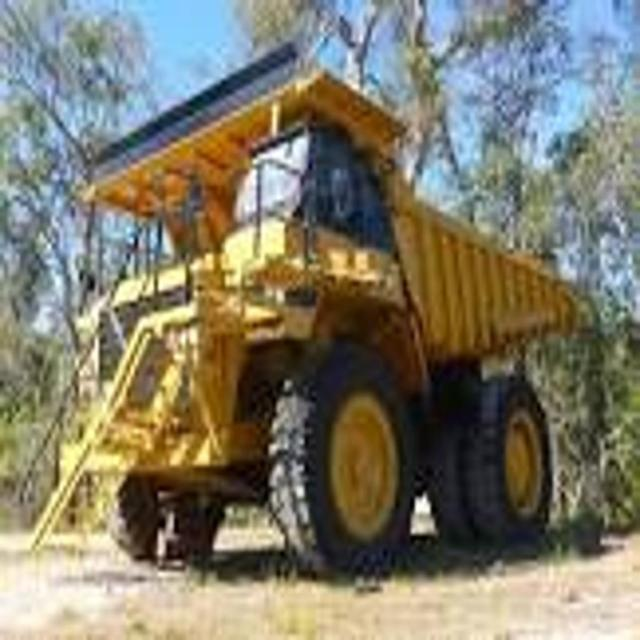dump_truck: (28, 47, 577, 593)
